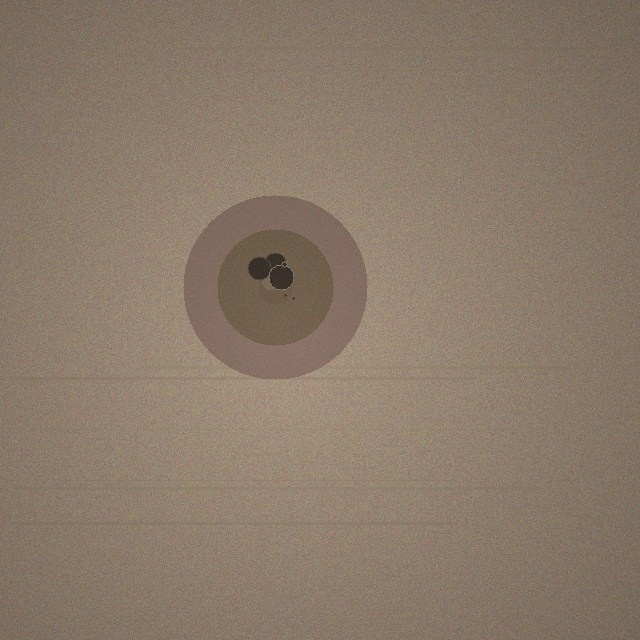shrinkage: (183, 195, 367, 379)
